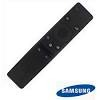remote control: (0, 0, 96, 88)
